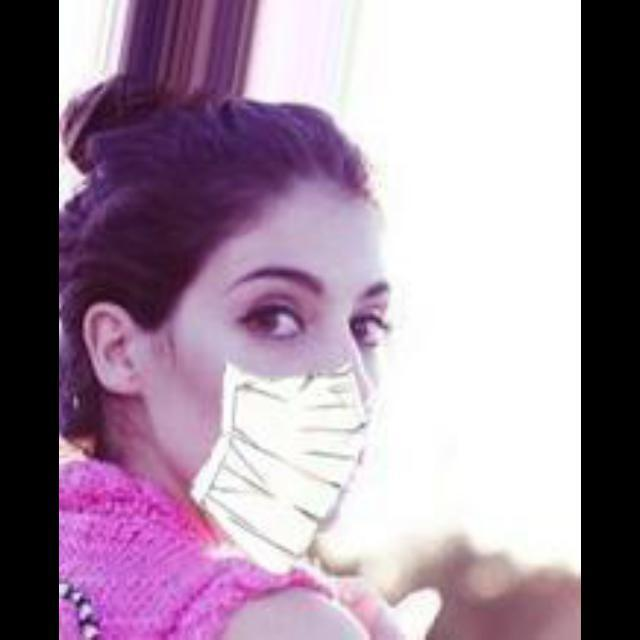suspicion: (108, 149, 418, 539)
